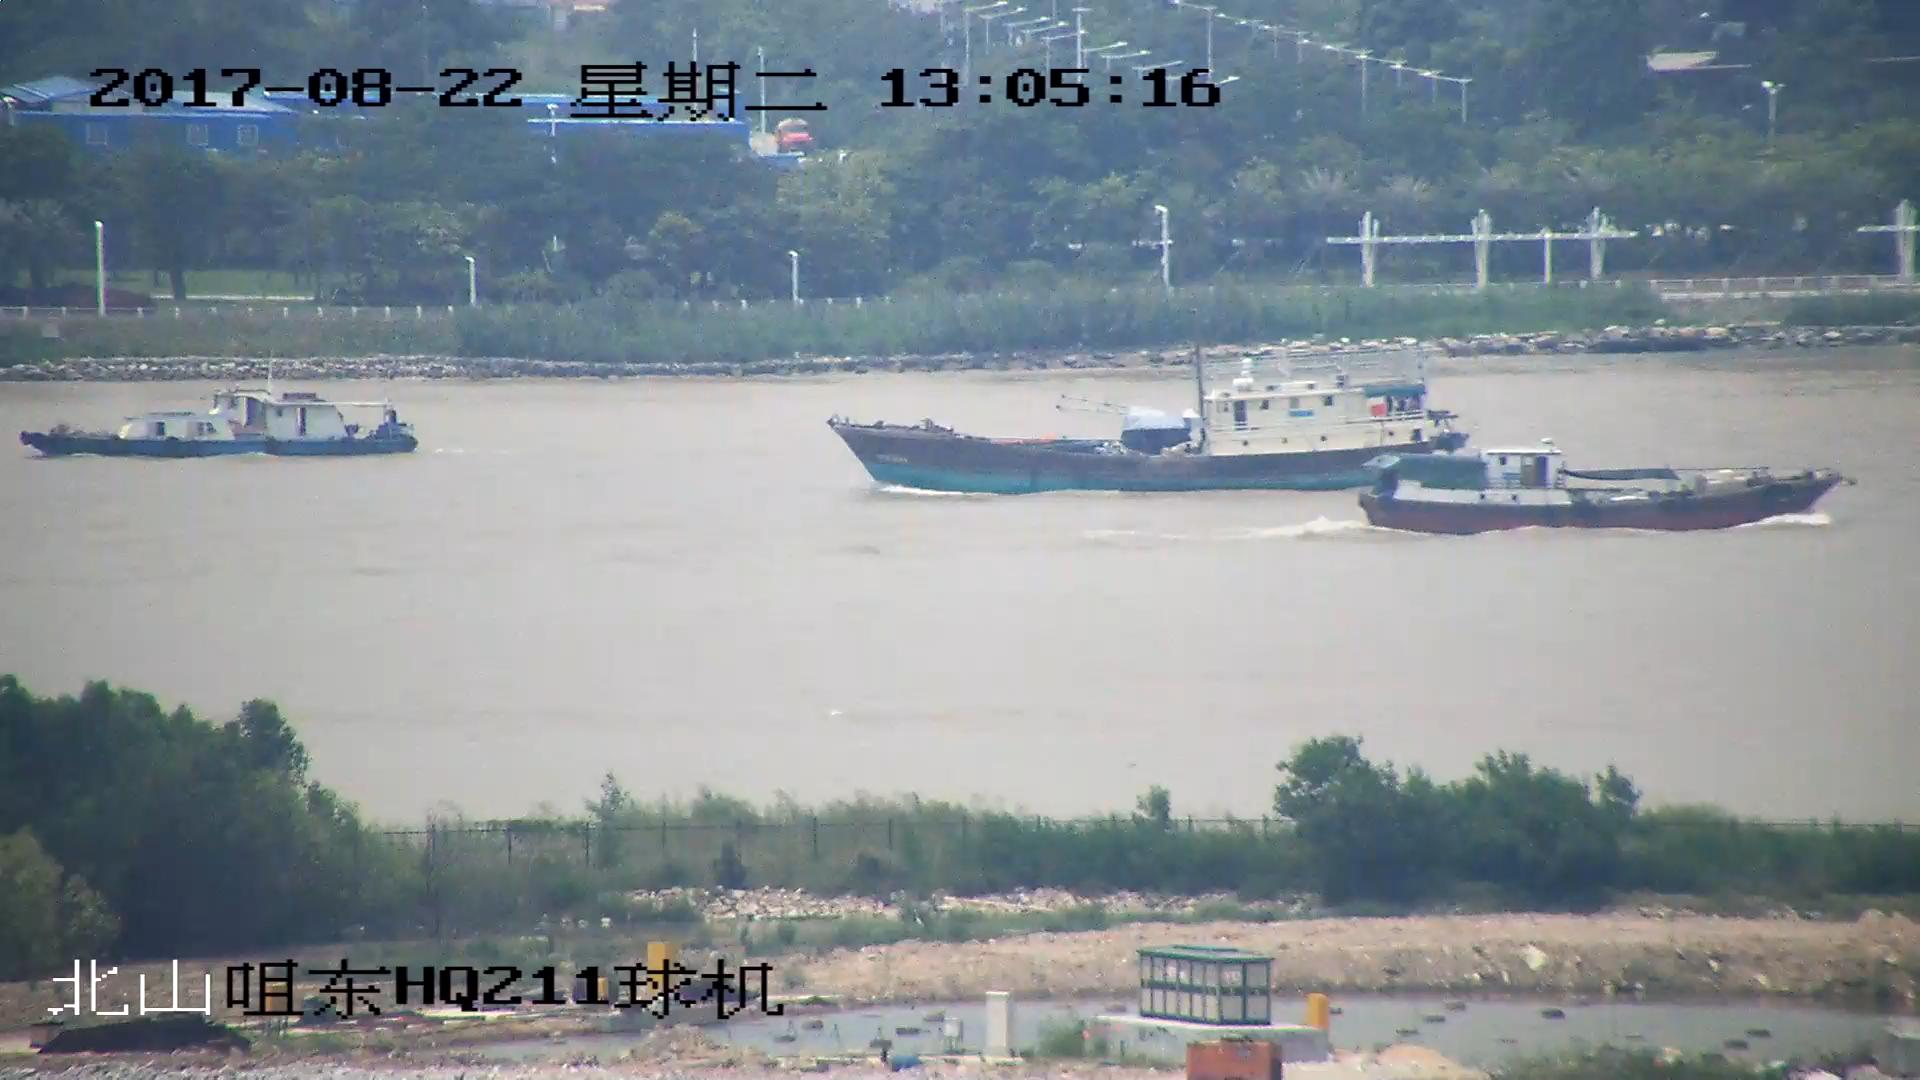fishing boat: (831, 339, 1468, 499), (1357, 405, 1857, 533), (21, 350, 418, 463)
